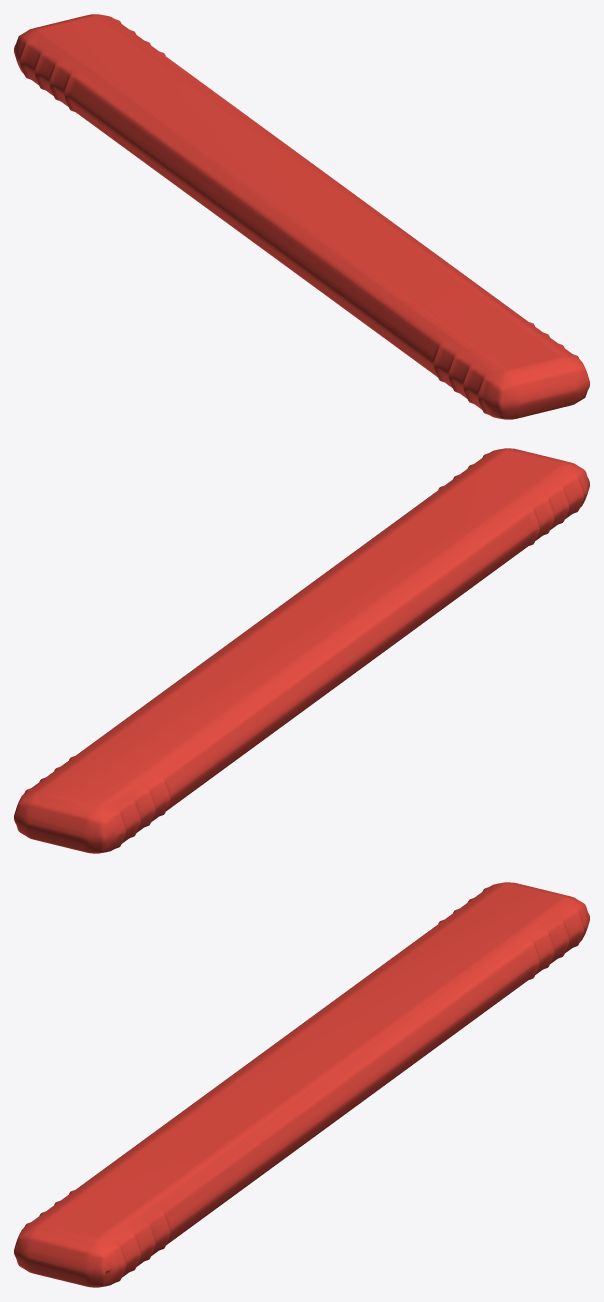
File: shore_spade_handle.glb
The picture shows the model from 3 angles, top to bottom: view 1: azimuth 30°, elevation 25°; view 2: azimuth 150°, elevation 25°; view 3: azimuth 330°, elevation 25°; orthographic projection.
Visible parts, largest first — view 1: shore_spade_handle; view 2: shore_spade_handle; view 3: shore_spade_handle.
Boxes of the visible parts, x1,y1,x2,y2 form: shore_spade_handle: [14, 14, 589, 419]; shore_spade_handle: [14, 448, 589, 853]; shore_spade_handle: [14, 882, 589, 1287].
Size of the model in its own units: 3.73 by 1.6 by 30.
